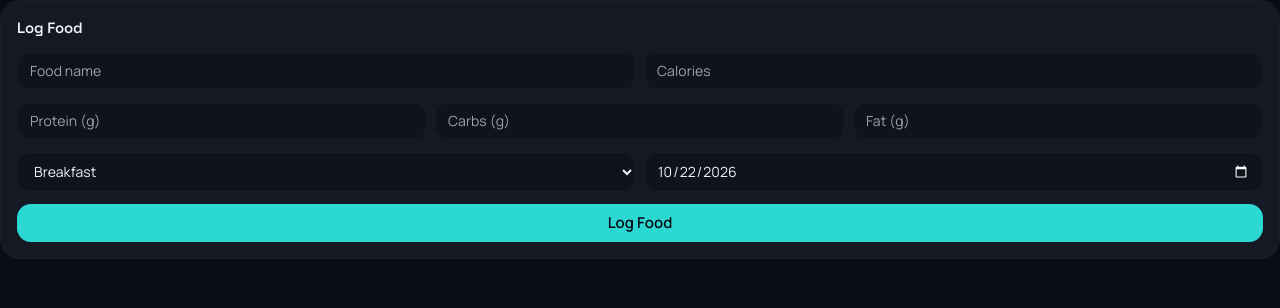
Test: FoodEntryForm › shows error when food name is empty
This screenshot has width=1280, height=308.
Type "100" into the number field labelled "Calories" at (954,70), box [644,52,1263,90]
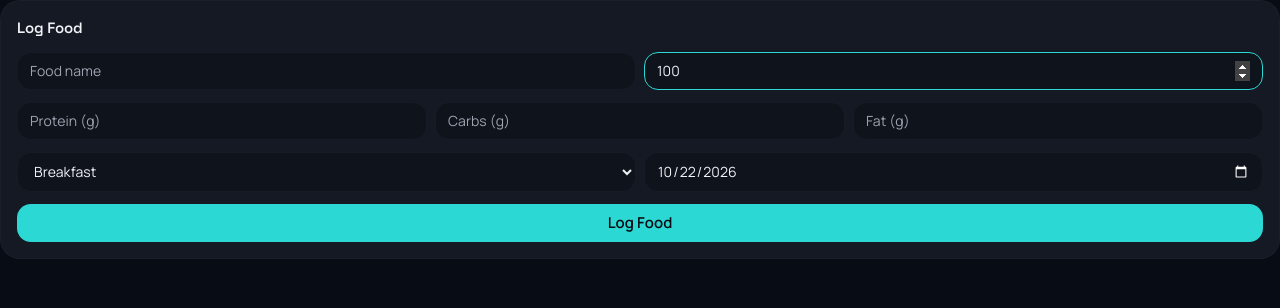
Click the button "Log Food" at (640,223), box [17,204,1263,242]
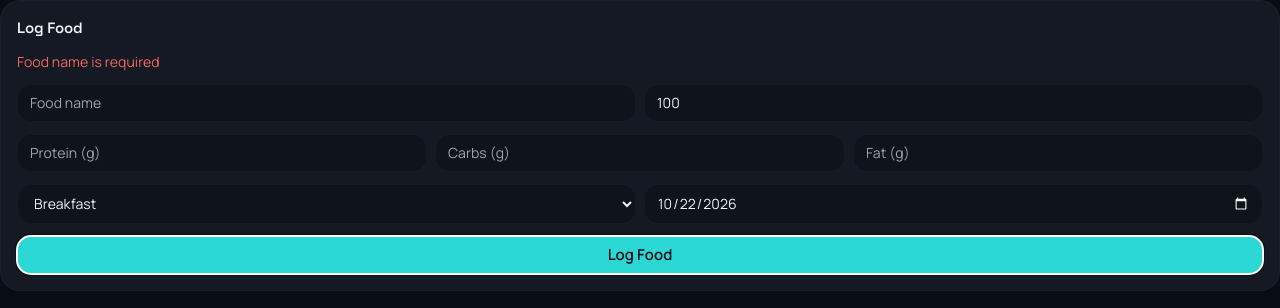
Expected: the text "Food name is required" is shown, [17,52,160,70]
